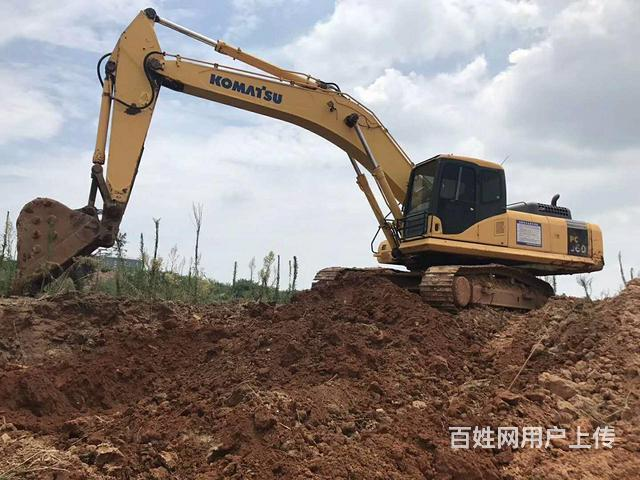excavator: (11, 1, 614, 326)
